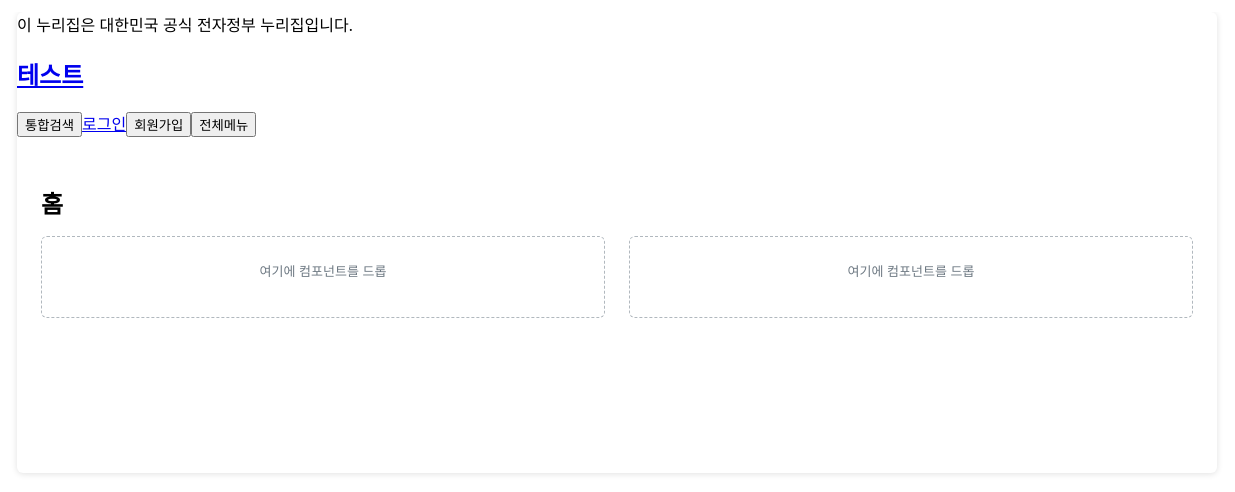
Test case: 다단 레이아웃 캔버스 렌더링 › 레이아웃을 선택하고 4단 버튼을 누르면 칼럼이 4개가 된다
This screenshot has width=1235, height=492.
Click the button named "다단 레이아웃 선택" at (617, 277), box top-left (41, 236), bottom-right (1193, 318)
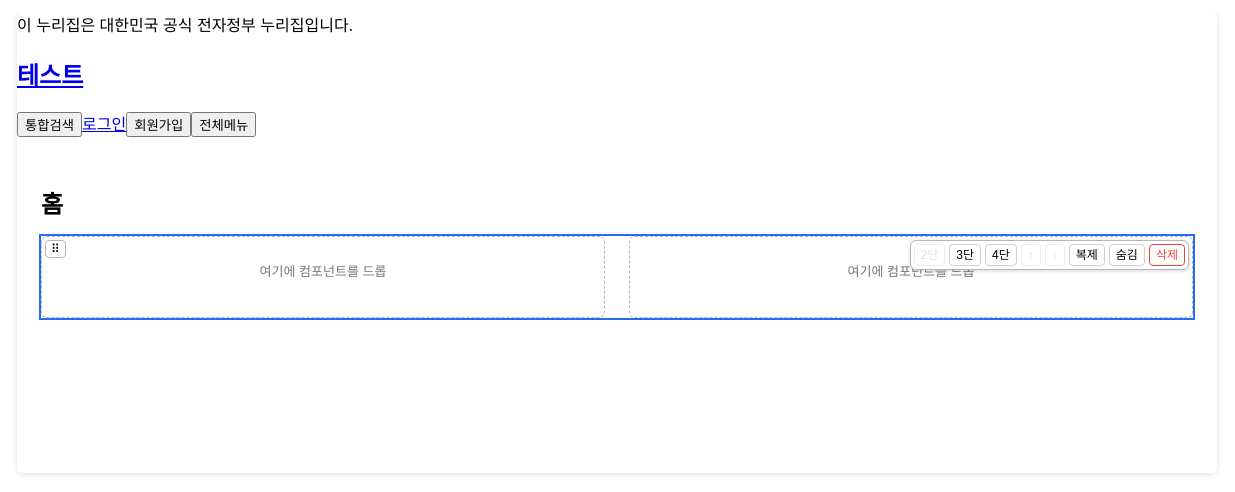
Click the button "4단" at (1001, 255), box top-left (985, 244), bottom-right (1017, 266)
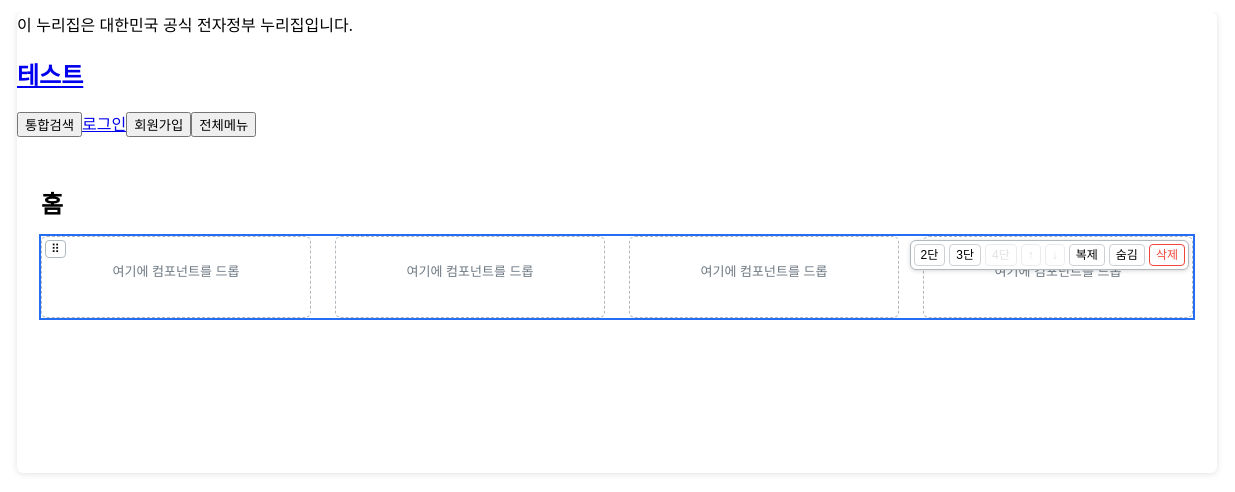
Result: the number of elements with class "krds-grid-col" is 4 at top-left (41, 236), bottom-right (311, 318); top-left (335, 236), bottom-right (605, 318); top-left (629, 236), bottom-right (899, 318); top-left (923, 236), bottom-right (1193, 318)
